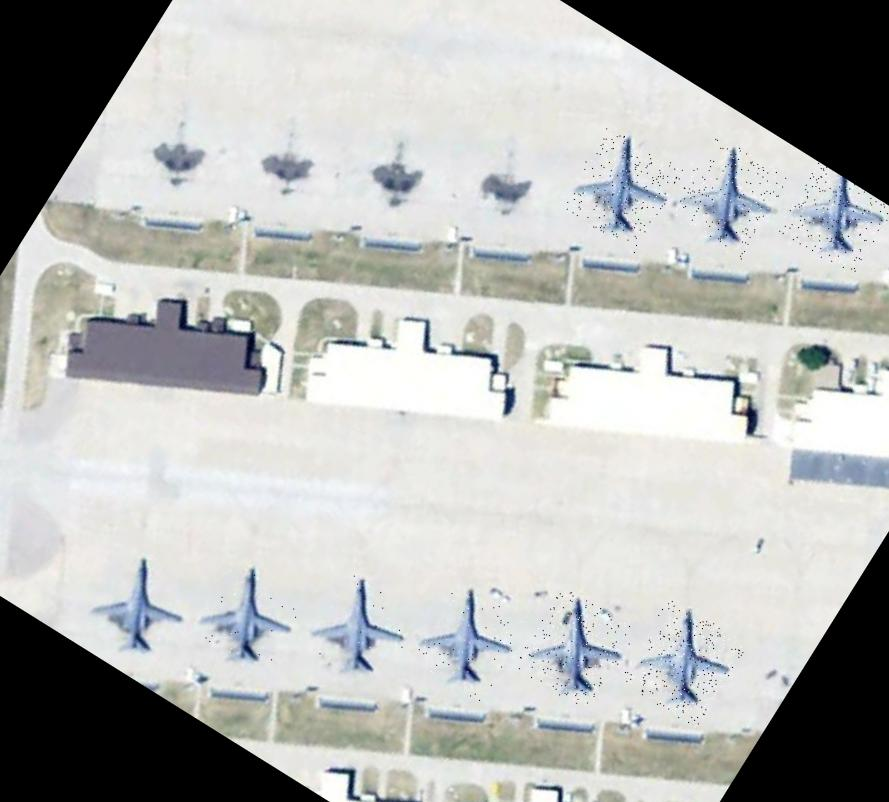A10: (616, 594, 748, 728), (183, 551, 313, 684), (555, 122, 684, 253), (72, 543, 201, 671), (296, 564, 422, 692), (511, 584, 637, 712), (404, 576, 529, 704), (665, 133, 790, 260), (775, 161, 889, 276)
